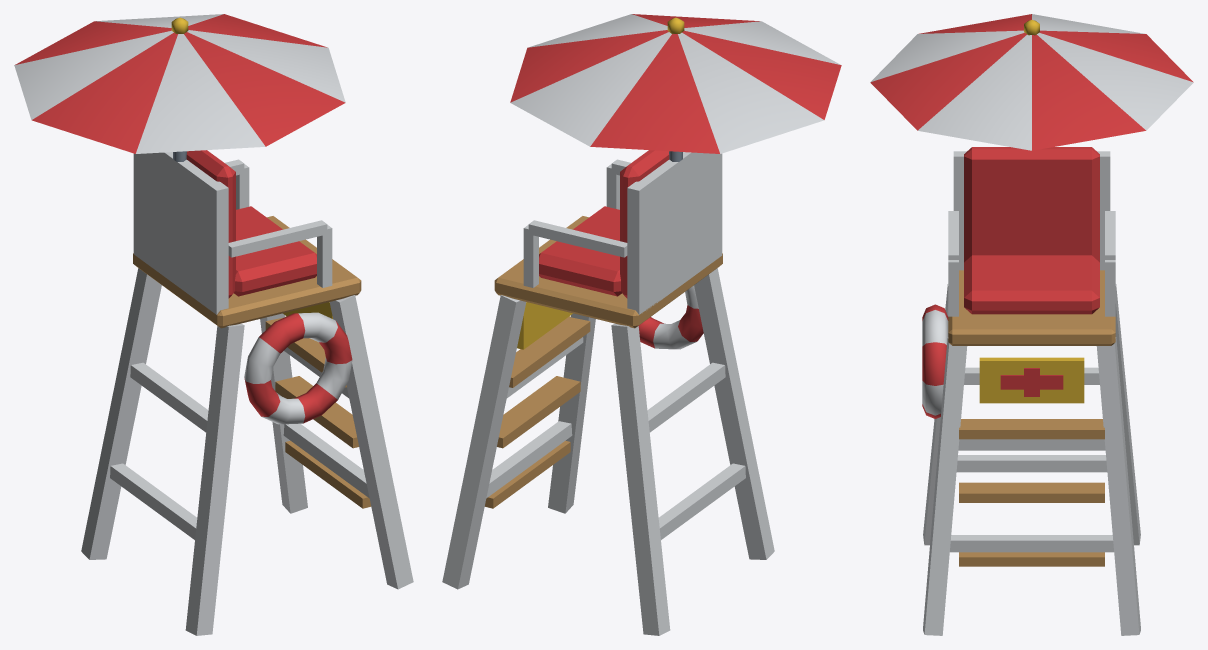
The model's file is aqua-prop1.glb.
3 renders of one model, left to right at view 1: azimuth 30°, elevation 25°; view 2: azimuth 150°, elevation 25°; view 3: azimuth 270°, elevation 25°, orthographic. The views are drawn at different scales.
Parts seen in each view (by area): view 1: aqua-prop1; view 2: aqua-prop1; view 3: aqua-prop1.
Part boxes in pixels (<box>): aqua-prop1: <box>14,14,413,635</box>; aqua-prop1: <box>442,14,841,635</box>; aqua-prop1: <box>870,14,1193,635</box>.
Size of the model in its own units: 1.36 by 2.27 by 1.24.
